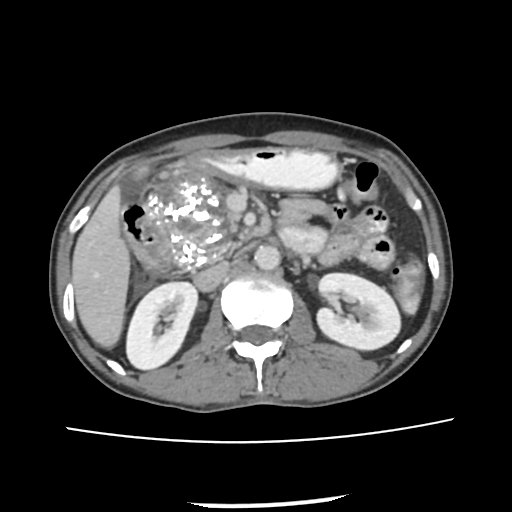aorta: (251, 242, 283, 271)
